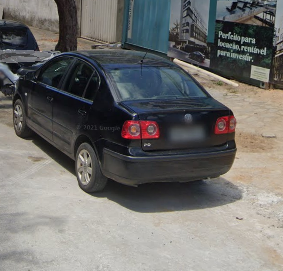car: (11, 43, 239, 198)
